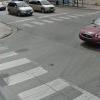Crosswalk: (1, 48, 88, 100)
